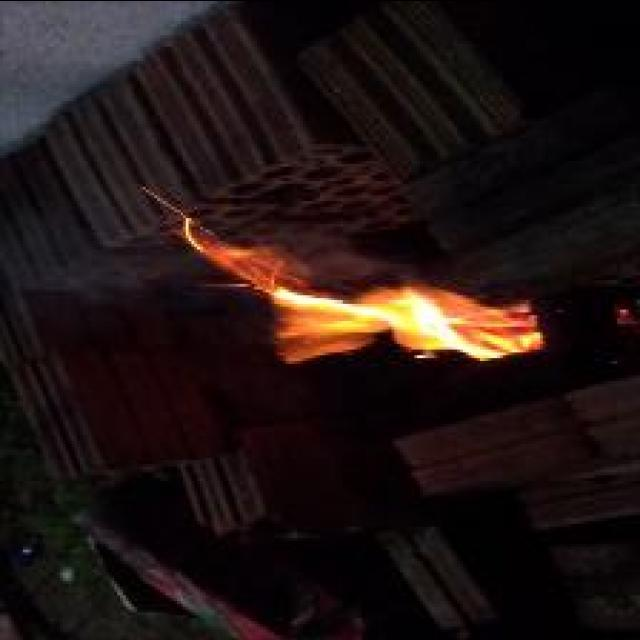Fire: (143, 188, 546, 362)
